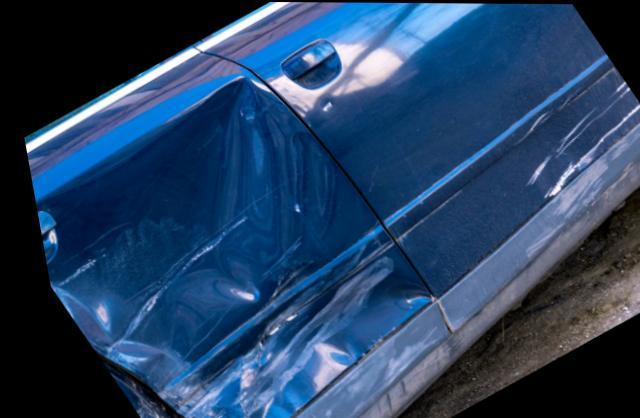dent: (38, 76, 422, 418), (314, 97, 332, 113)
rub: (517, 70, 640, 223)
